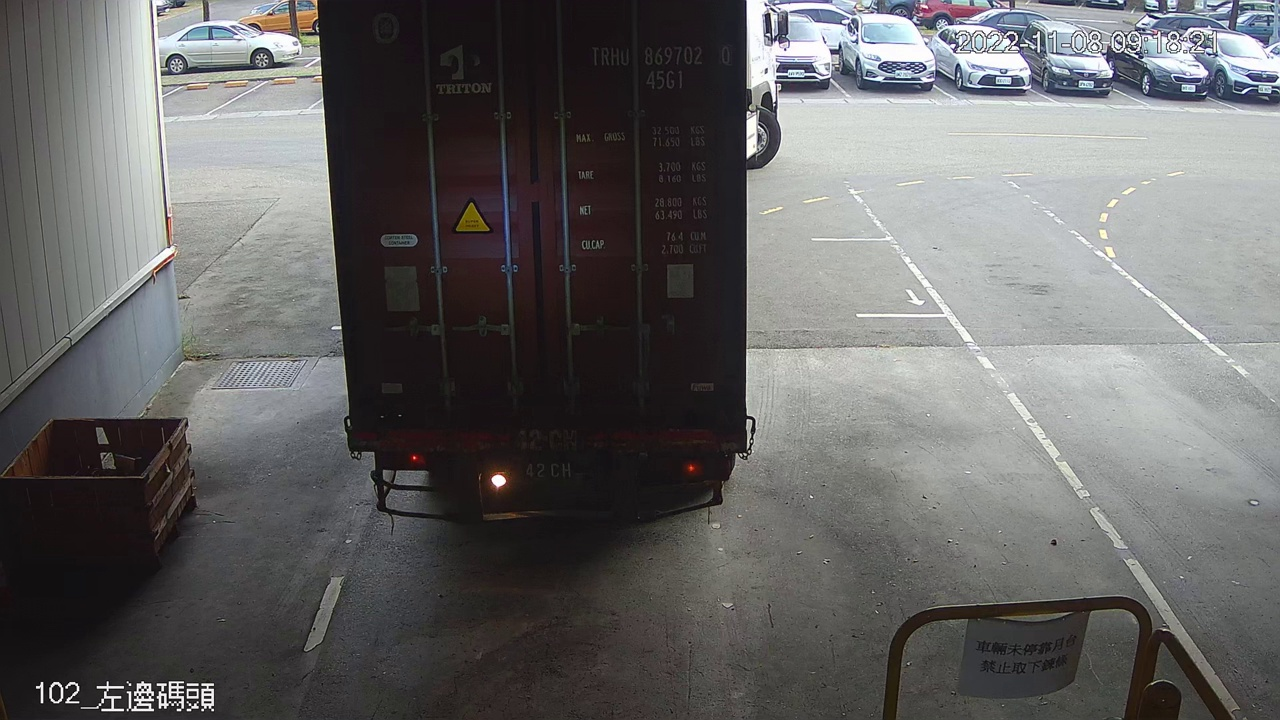container: (584, 37, 735, 97)
